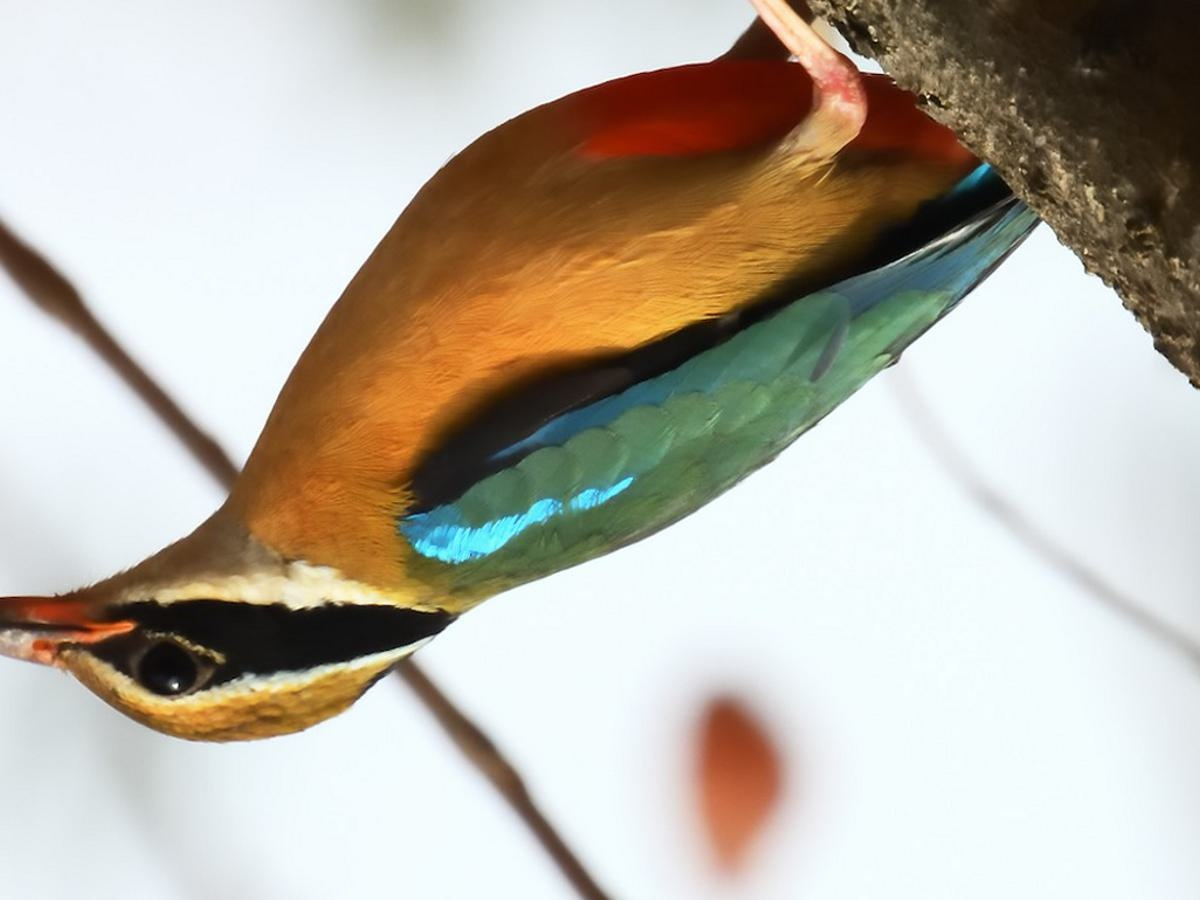pitta: (14, 51, 1036, 755)
